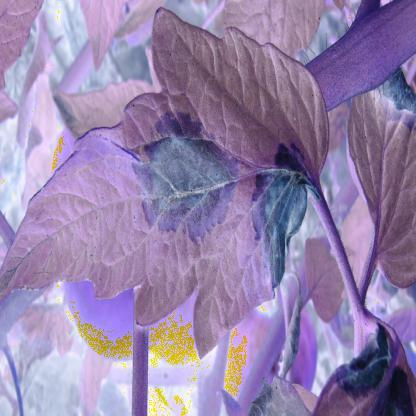Tomato leaf mosaic virus: (0, 9, 335, 372)
